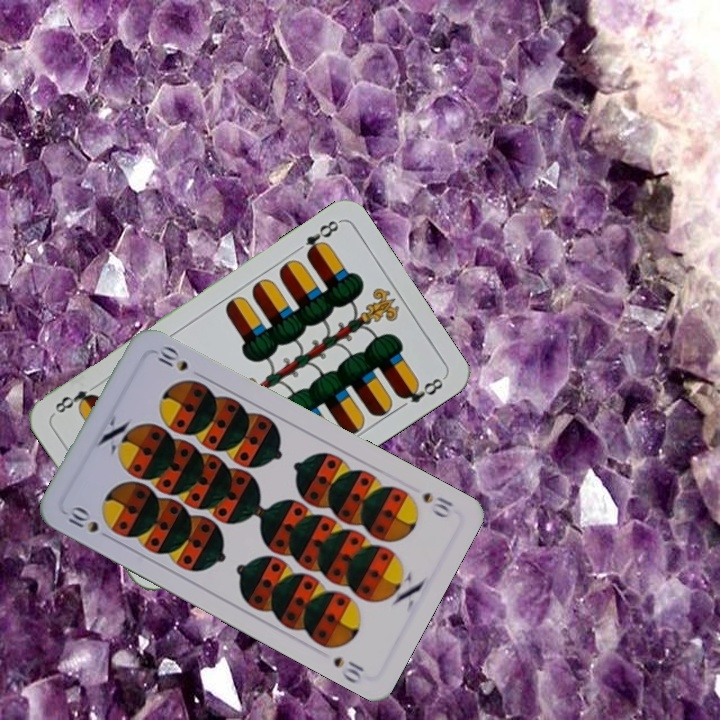E8: (301, 216, 342, 260)
S10: (64, 502, 115, 543), (418, 488, 456, 521)
